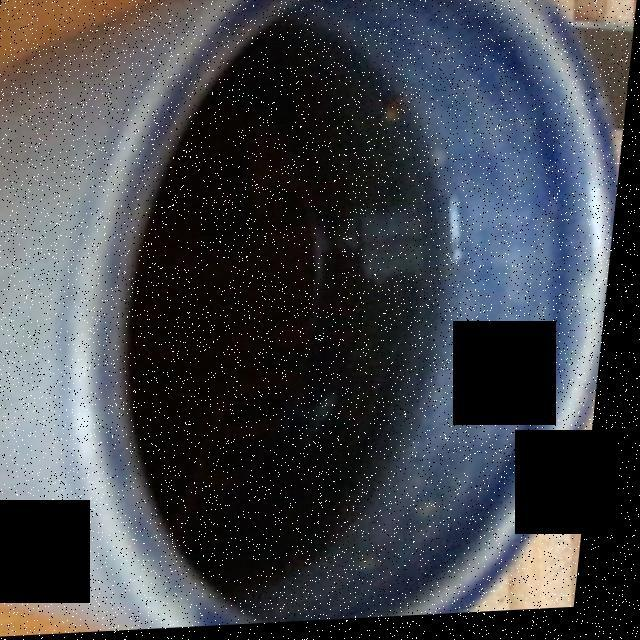tea: (142, 35, 449, 599)
